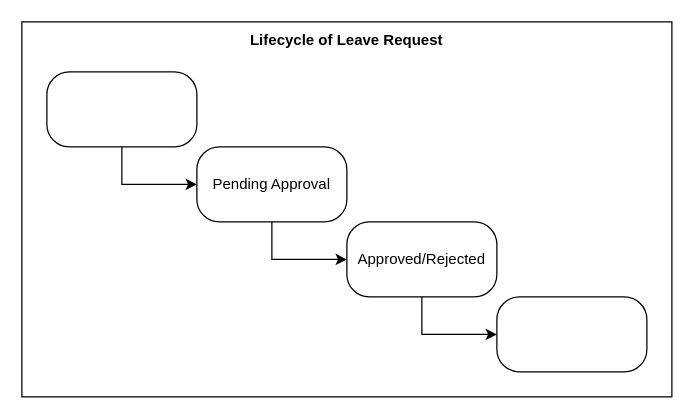
This 694x419 diagram has some shape labels left out. The shapes that lost their labels are listed below. From the top down, each one's centre as x and y in pixels, then its label:
At point (121, 109): "Created".
At point (571, 334): "Archived".
